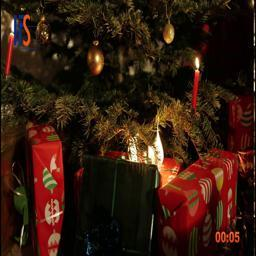Fire: (188, 49, 204, 69)
